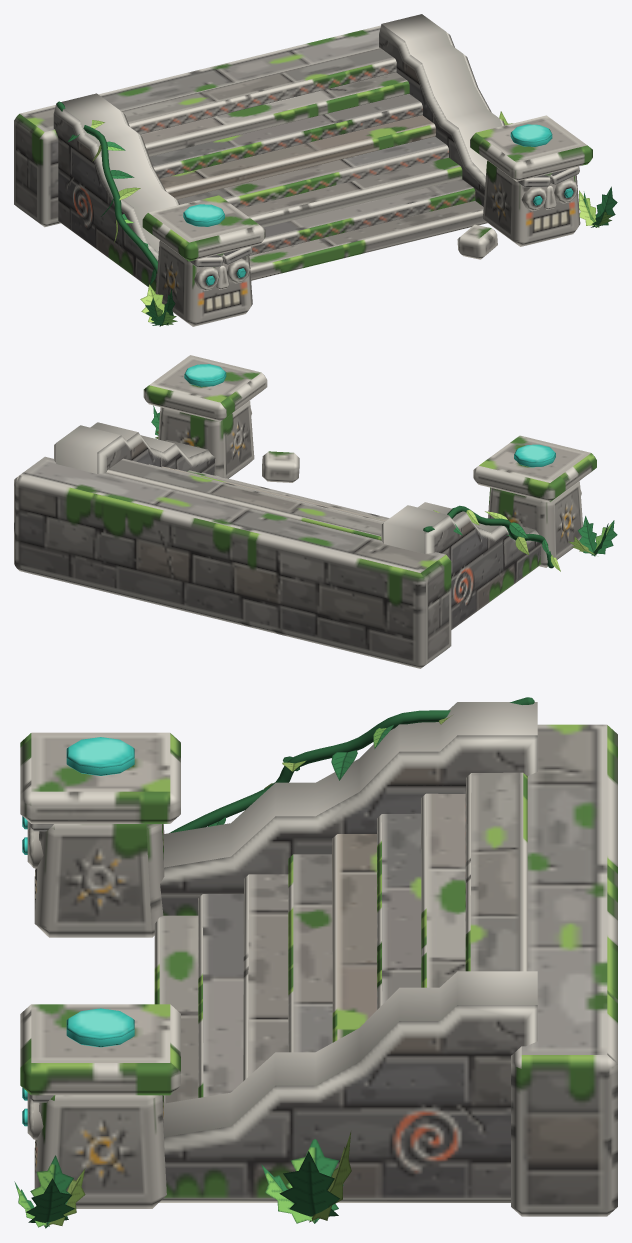
The model's file is gate_stair.glb.
3 renders of one model, top to bottom at view 1: azimuth 30°, elevation 25°; view 2: azimuth 150°, elevation 25°; view 3: azimuth 270°, elevation 25°, orthographic. The views are drawn at different scales.
Parts seen in each view (by area): view 1: 0020_add, 0000_add, 0009_add, 0008_add, 0005_add, 0006_add, 0007_add, 0001_add, 0004_add, 0002_add, 0003_add, 0010_add (+7 smaller); view 2: 0000_add, 0020_add, 0009_add, 0008_add, 0018_add, 0029_add, 0010_add, 0021_add, 0059_add, 0019_glow, 0030_glow, 0031_loose (+2 smaller); view 3: 0009_add, 0000_add, 0020_add, 0021_add, 0010_add, 0008_add, 0029_add, 0018_add, 0002_add, 0004_add, 0005_add, 0003_add (+12 smaller).
Part boxes in pixels (x1,y1,x2,y2): 0020_add: (53, 93, 179, 291); 0000_add: (14, 25, 380, 227); 0009_add: (379, 14, 504, 206); 0008_add: (121, 47, 396, 134); 0005_add: (160, 115, 435, 199); 0006_add: (149, 94, 422, 178); 0007_add: (140, 72, 409, 156); 0001_add: (249, 201, 487, 280); 0004_add: (177, 136, 448, 208); 0002_add: (249, 179, 475, 255); 0003_add: (238, 157, 462, 227); 0010_add: (483, 160, 580, 246); 0000_add: (14, 456, 451, 668); 0020_add: (381, 502, 541, 629); 0009_add: (54, 422, 215, 475); 0008_add: (106, 458, 383, 540); 0018_add: (143, 355, 267, 421); 0029_add: (473, 435, 596, 501); 0010_add: (158, 400, 254, 478); 0021_add: (488, 481, 582, 567); 0059_add: (262, 451, 299, 482); 0019_glow: (184, 364, 226, 386); 0030_glow: (514, 444, 555, 467); 0031_loose: (423, 505, 553, 568); 0009_add: (159, 971, 537, 1202); 0000_add: (511, 724, 617, 1216); 0020_add: (160, 702, 537, 915); 0021_add: (34, 824, 164, 937); 0010_add: (34, 1095, 166, 1208); 0008_add: (465, 772, 527, 971); 0029_add: (20, 732, 180, 823); 0018_add: (20, 1004, 180, 1095); 0002_add: (198, 894, 243, 1097); 0004_add: (288, 854, 332, 1052); 0005_add: (332, 834, 376, 1042); 0003_add: (243, 874, 288, 1081).
Size of the model in its own units: 10.11 by 2.54 by 6.77.
